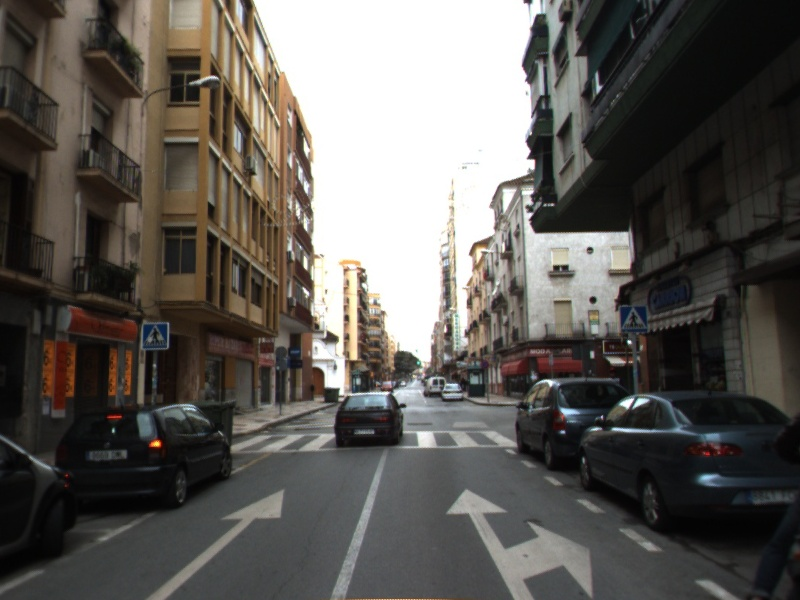STRAIGHT: (144, 487, 286, 600)
STRAIGHT_RIGHT: (444, 486, 594, 600)
